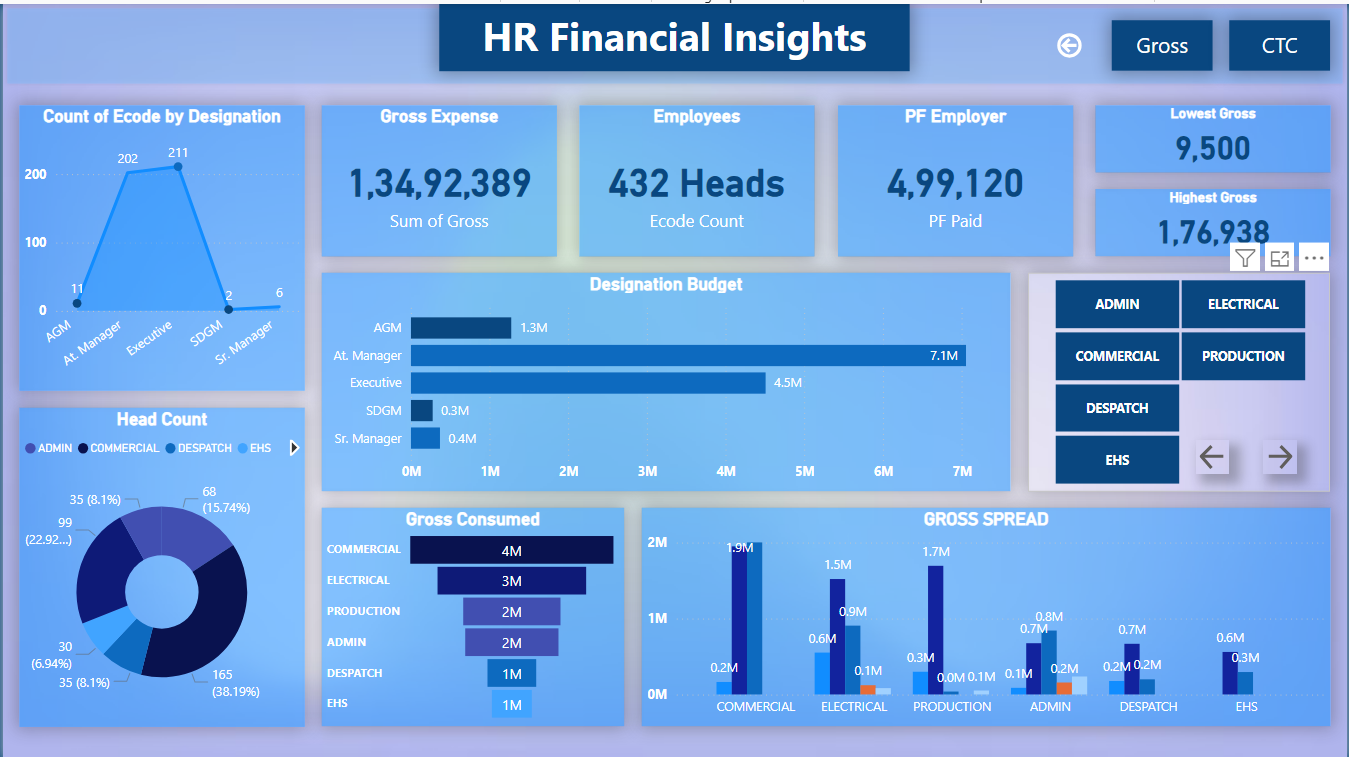

What the dashboard file says about the page in this screenshot:
{"tool":"powerbi","page":{"name":"Page 1","canvas":[1280,720],"ordinal":0},"visuals":[{"type":"shape","title":"HR Financial Insights","box":[0,0,1280,80],"z":0},{"type":"actionButton","box":[1056,16,96,48],"z":1000},{"type":"actionButton","box":[1168,16,96,48],"z":2000},{"type":"clusteredColumnChart","title":"GROSS SPREAD","fields":{"Category":["Sheet1.Department"],"Series":["Sheet1.Designation"],"Y":["Sum(Sheet1.Gross)"]},"box":[608,480,656,208],"z":4000},{"type":"donutChart","title":"Head Count","fields":{"Y":["CountNonNull(Sheet1.Designation)"],"Series":["Sheet1.Department"]},"box":[16,384,272,304],"z":6000},{"type":"areaChart","fields":{"Category":["Sheet1.Designation"],"Y":["CountNonNull(Sheet1.Ecode)"]},"box":[16,96,272,272],"z":8000},{"type":"card","title":"Employees","fields":{"Values":["CountNonNull(Sheet1.Ecode)"]},"box":[549.3,96,224,144],"z":10000},{"type":"card","title":"PF Employer","fields":{"Values":["Sum(Sheet1.PF)"]},"box":[794.7,96,224,144],"z":11000},{"type":"slicer","fields":{"Values":["Sheet1.Department"]},"box":[976,256,288,208],"z":13000},{"type":"actionButton","box":[1200,416,32,32],"z":14000},{"type":"actionButton","box":[1136,416,32,32],"z":15000},{"type":"card","title":"Gross Expense","fields":{"Values":["Sum(Sheet1.Gross)"]},"box":[304,96,224,144],"z":18000},{"type":"card","title":"Highest Gross","fields":{"Values":["Max(Sheet1.Gross)"]},"box":[1040,176,224,64],"z":19000},{"type":"card","title":"Lowest Gross","fields":{"Values":["Min(Sheet1.Gross)"]},"box":[1040,96,224,64],"z":20000},{"type":"barChart","title":"Designation Budget","fields":{"Y":["Sum(Sheet1.Gross)"],"Category":["Sheet1.Designation"]},"box":[304,256,656,208],"z":21000},{"type":"funnel","title":"Gross Consumed","fields":{"Category":["Sheet1.Department"],"Y":["Sum(Sheet1.Gross)"]},"box":[304,480,288,208],"z":22000},{"type":"actionButton","box":[992,16,48,48],"z":23000},{"type":"textbox","box":[416,0,448,64],"z":24000}]}

Visuals, with their boxes in screenshot pixels (x1, y1, x2, y2), scaled from the page's 1280x720 canvas onto the 1349x757 screenshot:
"HR Financial Insights" shape: bbox=[0, 0, 1348, 84]
actionButton: bbox=[1113, 17, 1214, 67]
actionButton: bbox=[1231, 17, 1332, 67]
"GROSS SPREAD" clusteredColumnChart: bbox=[641, 505, 1332, 723]
"Head Count" donutChart: bbox=[17, 404, 304, 723]
areaChart - Sheet1.Designation x CountNonNull(Sheet1.Ecode): bbox=[17, 101, 304, 387]
"Employees" card: bbox=[579, 101, 815, 252]
"PF Employer" card: bbox=[838, 101, 1074, 252]
slicer - Sheet1.Department: bbox=[1029, 269, 1332, 488]
actionButton: bbox=[1265, 437, 1298, 471]
actionButton: bbox=[1197, 437, 1231, 471]
"Gross Expense" card: bbox=[320, 101, 556, 252]
"Highest Gross" card: bbox=[1096, 185, 1332, 252]
"Lowest Gross" card: bbox=[1096, 101, 1332, 168]
"Designation Budget" barChart: bbox=[320, 269, 1012, 488]
"Gross Consumed" funnel: bbox=[320, 505, 624, 723]
actionButton: bbox=[1045, 17, 1096, 67]
textbox: bbox=[438, 0, 911, 67]
